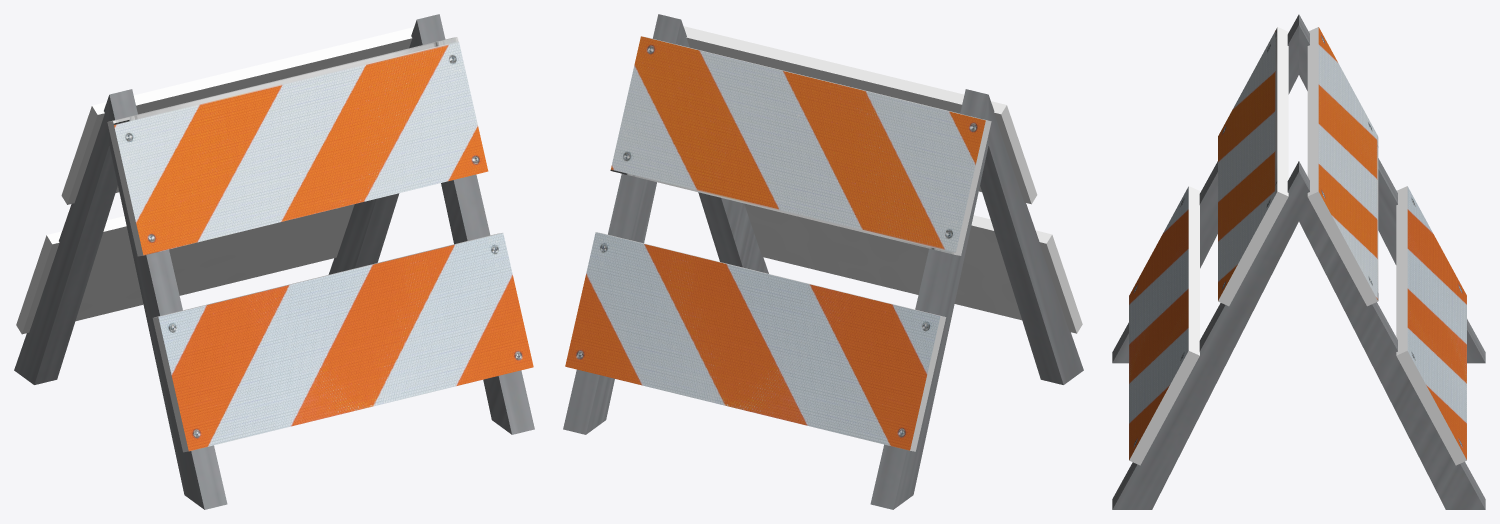
Rendered from barricade.glb.
The picture shows the model from 3 angles, left to right: view 1: azimuth 30°, elevation 25°; view 2: azimuth 150°, elevation 25°; view 3: azimuth 270°, elevation 25°; orthographic projection. The views are drawn at different scales.
Parts seen in each view (by area): view 1: Barricade; view 2: Barricade; view 3: Barricade.
Part boxes in pixels (x1,y1,x2,y2): Barricade: (14, 14, 534, 509); Barricade: (563, 14, 1083, 509); Barricade: (1112, 14, 1485, 509).
Size of the model in its own units: 2.09 by 2 by 2.
2 materials, 2 textured.
